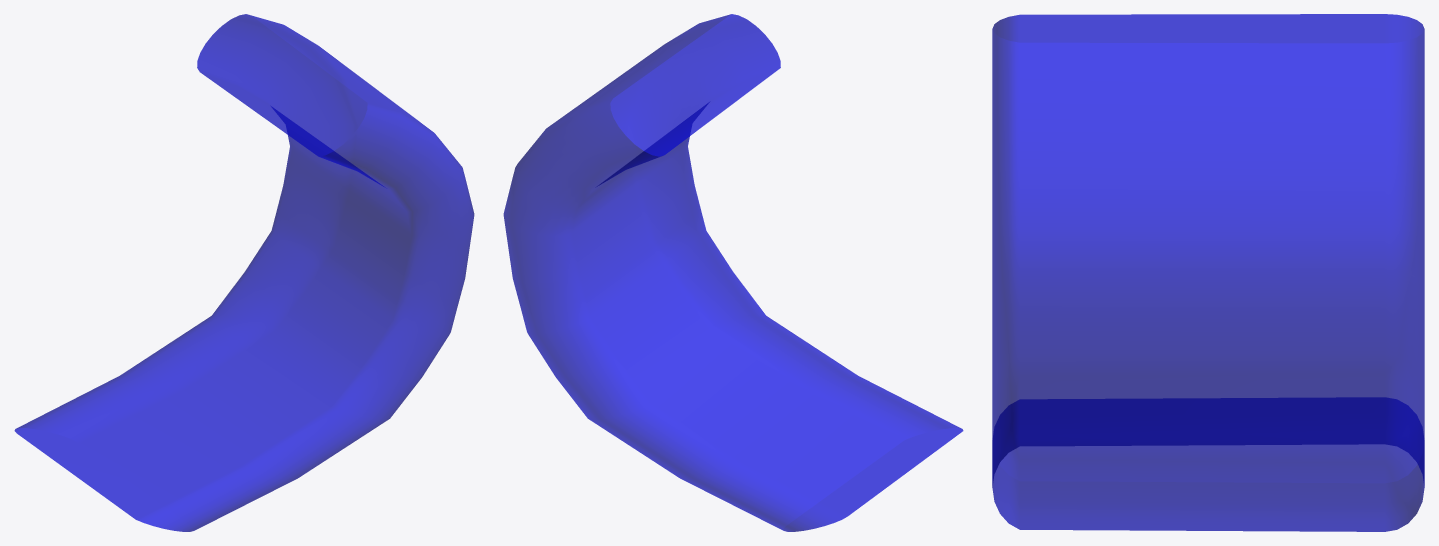
The picture shows the model from 3 angles, left to right: view 1: azimuth 30°, elevation 25°; view 2: azimuth 150°, elevation 25°; view 3: azimuth 270°, elevation 25°; orthographic projection. The views are drawn at different scales.
Parts seen in each view (by area): view 1: pCylinder1; view 2: pCylinder1; view 3: pCylinder1.
Part boxes in pixels (box(x1,y1,x2,y2)): pCylinder1: box(14, 14, 474, 531); pCylinder1: box(503, 14, 963, 531); pCylinder1: box(992, 14, 1424, 531).
Size of the model in its own units: 1.76 by 1.9 by 1.24.
